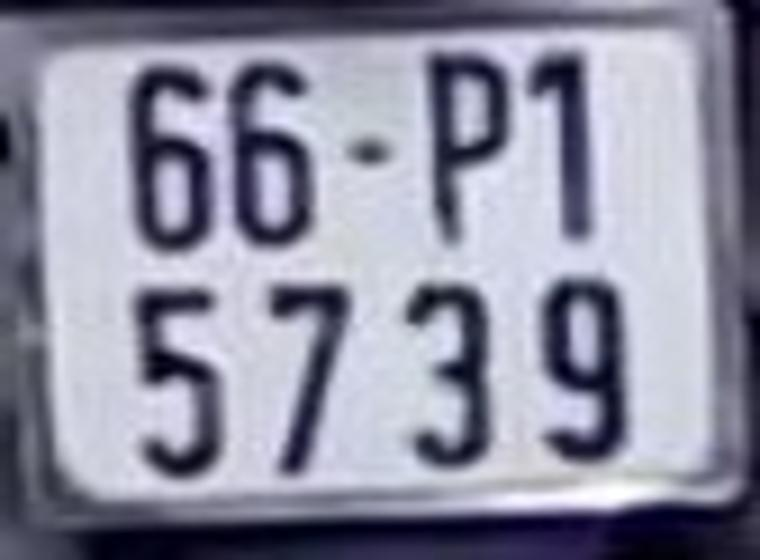-: (343, 134, 400, 176)
1: (522, 46, 618, 247)
3: (393, 275, 505, 478)
5: (126, 282, 238, 486)
6: (110, 62, 225, 261), (228, 57, 329, 259)
7: (268, 271, 362, 482)
9: (532, 268, 639, 468)
P: (419, 51, 518, 245)
